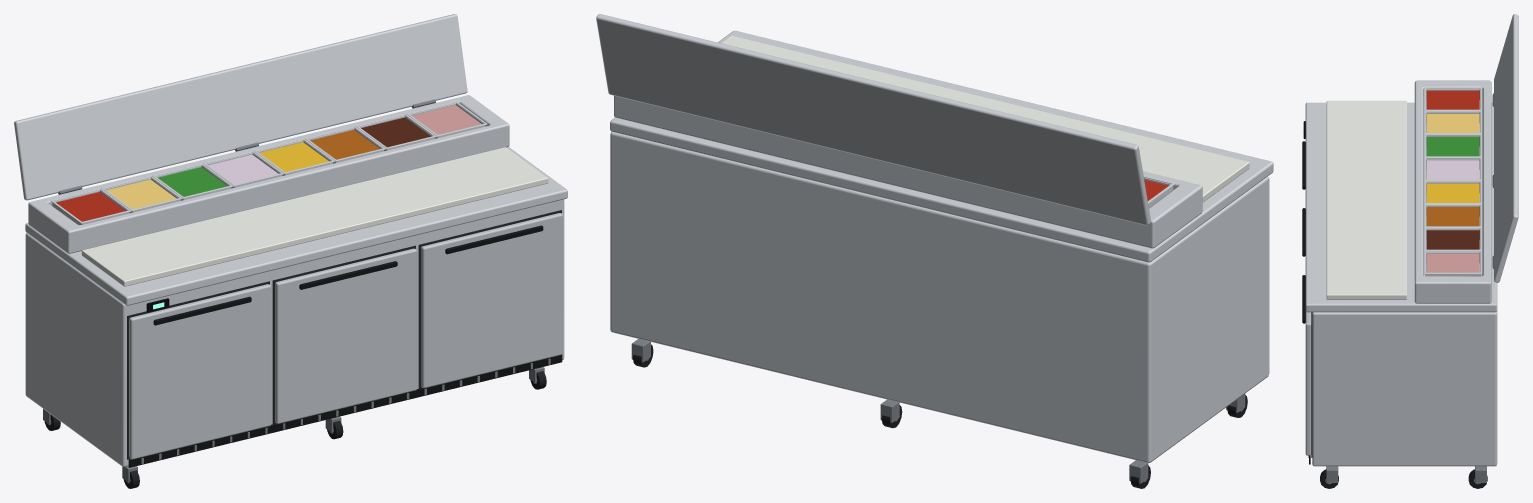
The model's file is pizza-makeline.glb.
3 renders of one model, left to right at view 1: azimuth 30°, elevation 25°; view 2: azimuth 150°, elevation 25°; view 3: azimuth 270°, elevation 25°, orthographic. The views are drawn at different scales.
Parts seen in each view (by area): view 1: BODY, FOOD; view 2: BODY; view 3: BODY, FOOD.
Part boxes in pixels (x1,y1,x2,y2): BODY: (14, 14, 567, 488); FOOD: (56, 105, 481, 221); BODY: (596, 14, 1273, 488); BODY: (1302, 14, 1518, 488); FOOD: (1426, 90, 1479, 272).
Bounding box in the file's own units: 2 × 1.29 × 0.9019.
